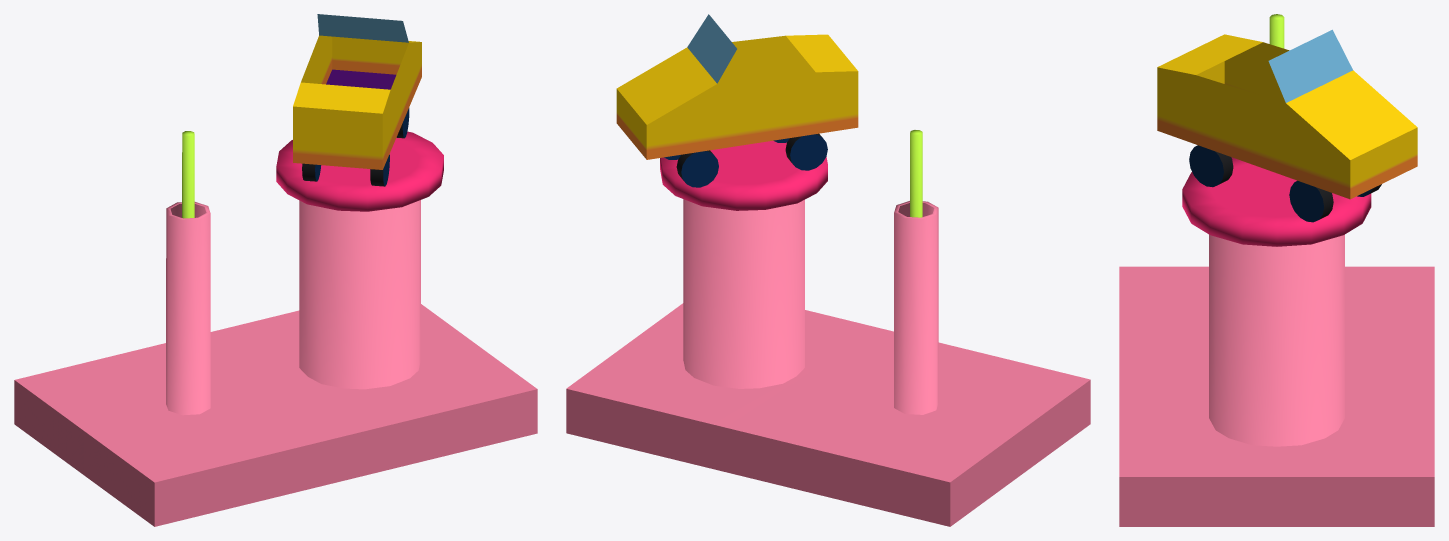
File: Pascal.glb
3 views of the same model, side by side, from view 1: azimuth 30°, elevation 25°; view 2: azimuth 150°, elevation 25°; view 3: azimuth 270°, elevation 25° (orthographic). The views are drawn at different scales.
Visible parts, largest first — view 1: hydraulic, vehicleBody, pistonBig, pistonSmall, vehicleWheel; view 2: hydraulic, vehicleBody, pistonBig, vehicleWheel, pistonSmall; view 3: hydraulic, vehicleBody, pistonBig, vehicleWheel, pistonSmall.
Boxes of the visible parts, x1,y1,x2,y2 form: hydraulic: (14,200,537,526); vehicleBody: (293,14,421,169); pistonBig: (276,131,443,211); pistonSmall: (182,131,194,218); vehicleWheel: (302,108,409,186); hydraulic: (566,199,1090,526); vehicleBody: (616,14,858,159); pistonBig: (660,140,827,210); vehicleWheel: (664,133,827,187); pistonSmall: (910,130,922,217); hydraulic: (1119,234,1434,526); vehicleBody: (1157,29,1417,199); pistonBig: (1182,157,1371,246); vehicleWheel: (1189,145,1381,222); pistonSmall: (1269,14,1284,48).
Bounding box in the file's own units: 20.19 × 19.18 × 12.8.
Materials: 1 (1 with a texture image).
